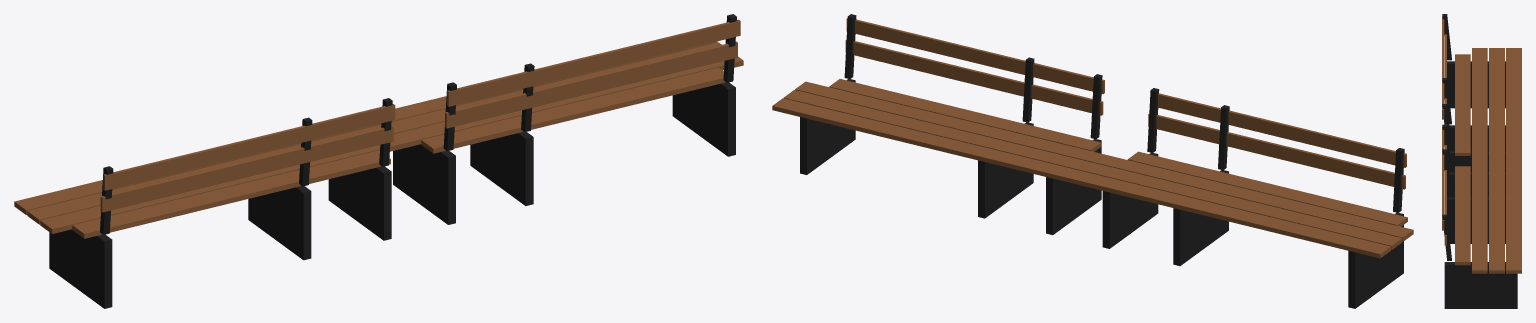
3 views of the same model, side by side, from view 1: azimuth 30°, elevation 25°; view 2: azimuth 150°, elevation 25°; view 3: azimuth 270°, elevation 25° (orthographic). The views are drawn at different scales.
Parts seen in each view (by area): view 1: parametric-variant-bench-3rd-d2abc228b6d913bb47a2; view 2: parametric-variant-bench-3rd-d2abc228b6d913bb47a2; view 3: parametric-variant-bench-3rd-d2abc228b6d913bb47a2.
Boxes of the visible parts, x1,y1,x2,y2 form: parametric-variant-bench-3rd-d2abc228b6d913bb47a2: (14, 14, 743, 308); parametric-variant-bench-3rd-d2abc228b6d913bb47a2: (772, 14, 1413, 308); parametric-variant-bench-3rd-d2abc228b6d913bb47a2: (1442, 14, 1521, 308).
Size of the model in its own units: 4.4 by 0.85 by 0.6674.
